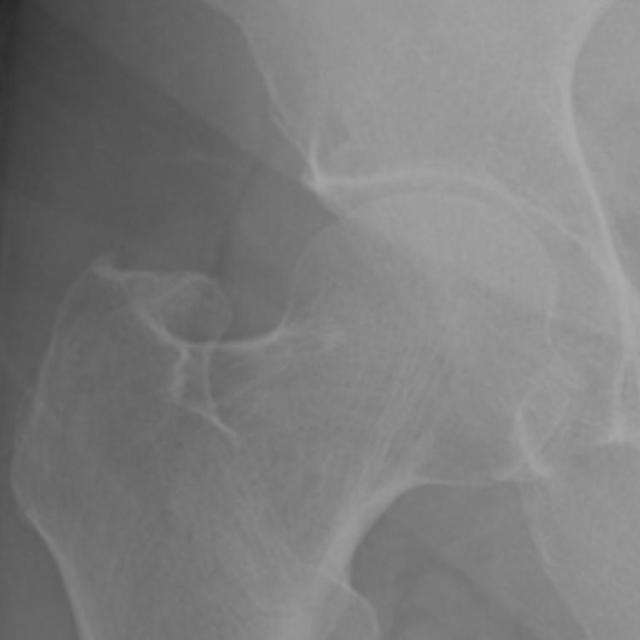Fitted_femural_head: (315, 191, 432, 315)
